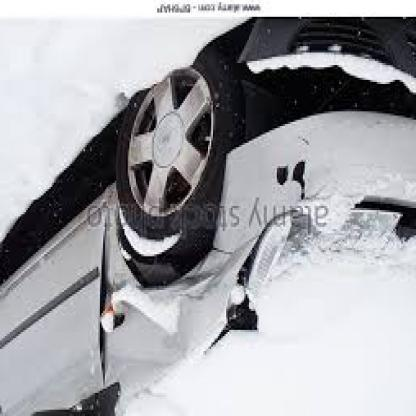dent: (94, 278, 191, 366), (195, 262, 277, 356), (339, 189, 415, 251), (261, 154, 317, 206)
